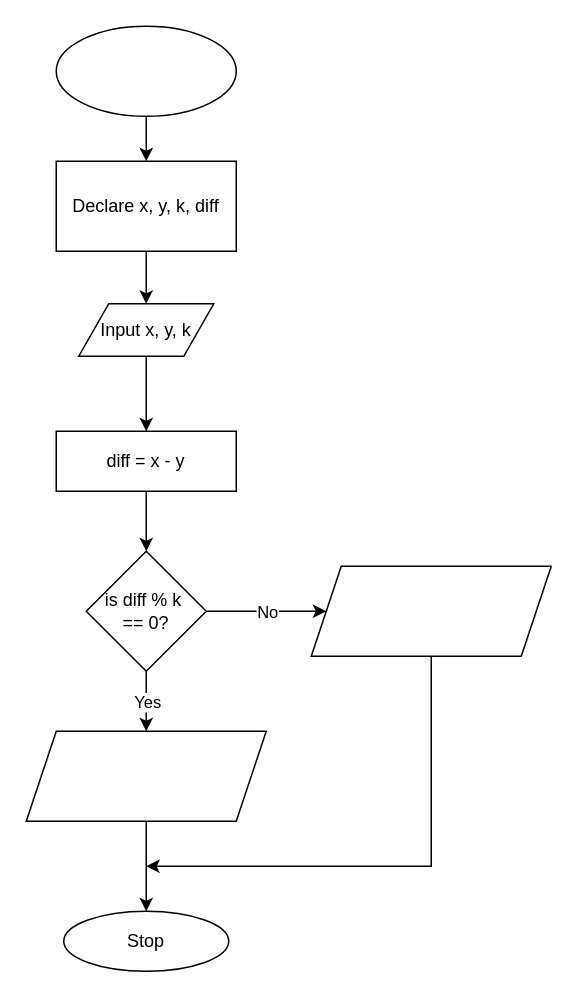
This 578x998 diagram has some shape labels left out. The centre of each missing label's shape, as x and y in pixels:
Output "k divides difference of x and y evenly ": pixel 145 775
Output "k does not divide difference of x and y evenly ": pixel 430 610
Start: pixel 145 70
